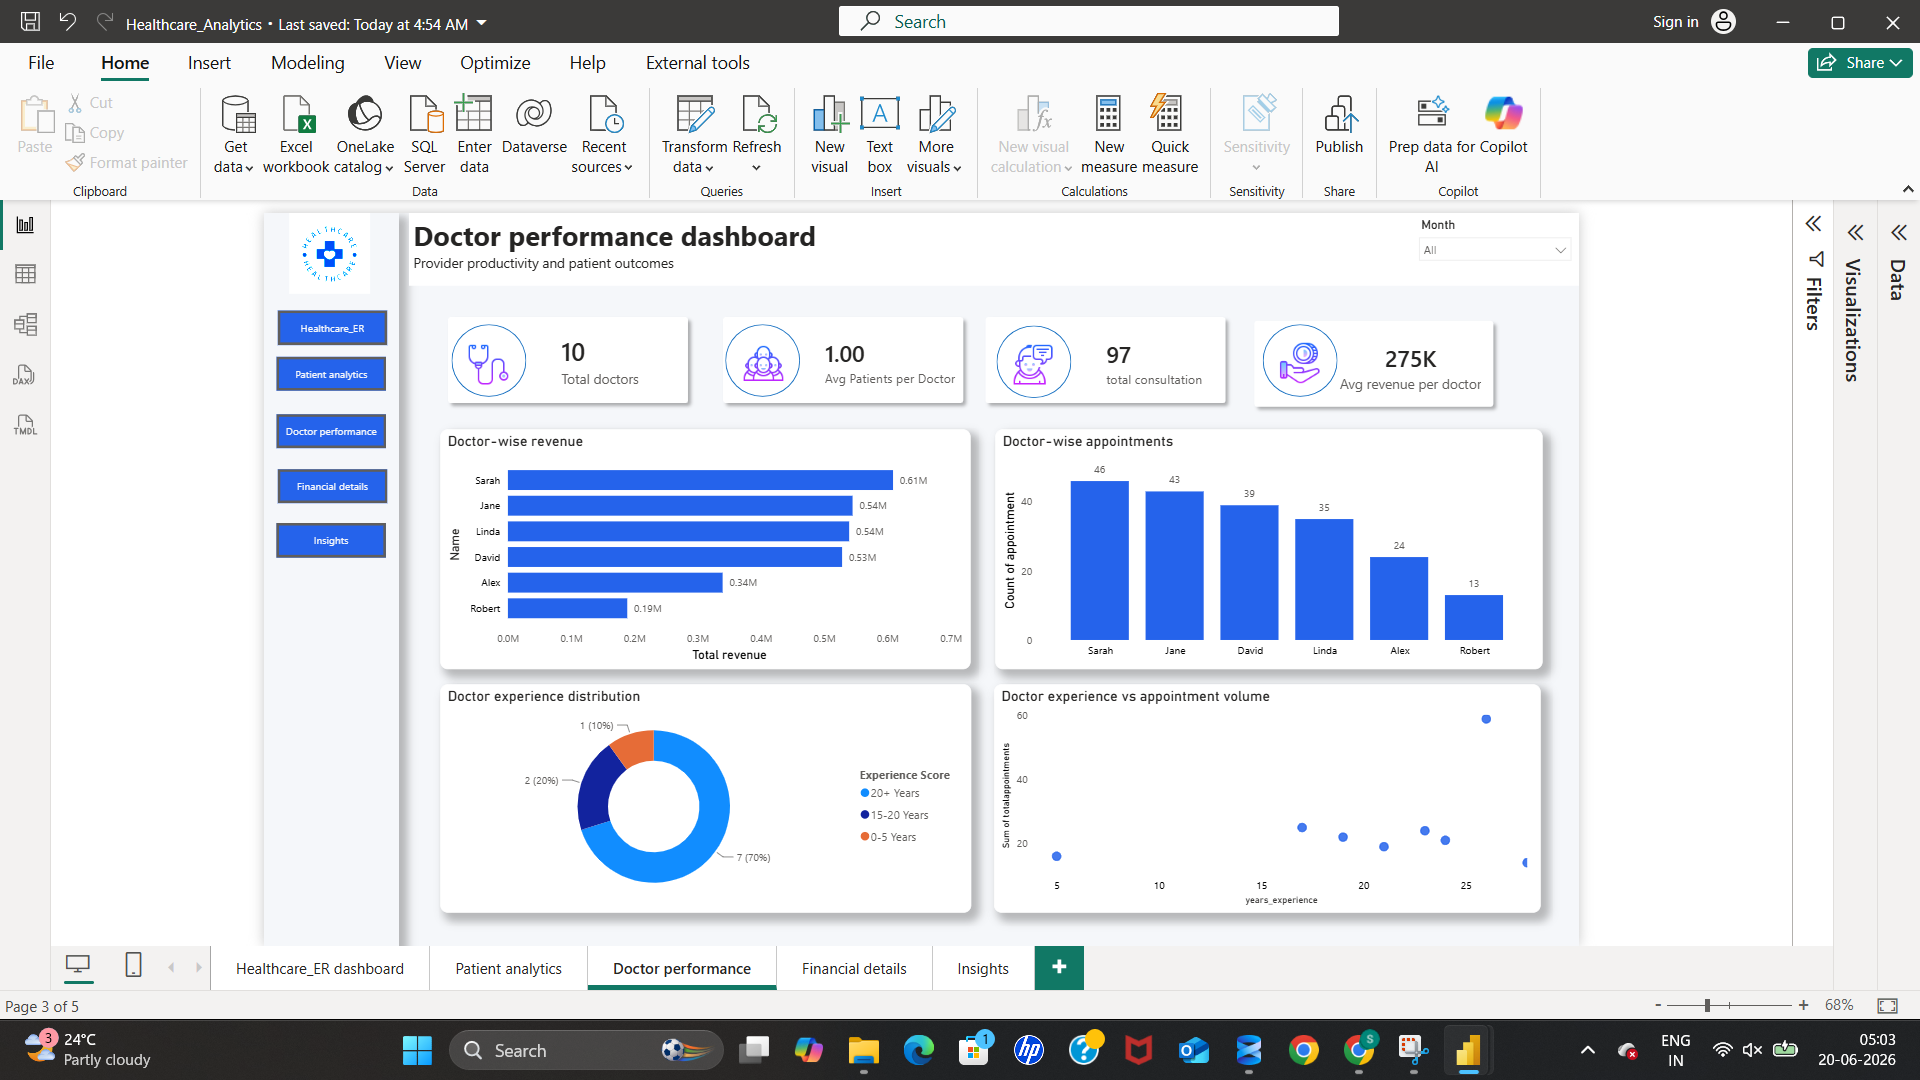

Layout of this report page (visuals, bound fields, positions):
{"tool":"powerbi","page":{"name":"Doctor performance","canvas":[1548,863],"ordinal":2},"visuals":[{"type":"shape","title":"Healthcare analytics","box":[0,0,159.3,863],"z":0},{"type":"image","box":[8.4,0,136.3,95.3],"z":1000},{"type":"actionButton","box":[14.5,168.9,129.1,39.8],"z":2000},{"type":"actionButton","box":[14.5,236.5,129.1,39.8],"z":3000},{"type":"actionButton","box":[15.7,301.6,129.1,39.8],"z":4000},{"type":"textbox","box":[170.2,0,1378.1,85.8],"z":5000},{"type":"slicer","fields":{"Values":["monthly_rev.month_name"]},"box":[1348.6,0,199.7,63.3],"z":6000},{"type":"shape","box":[207.5,113.4,300.4,119.4],"z":7000},{"type":"shape","box":[531,113.8,300.7,119.2],"z":8000},{"type":"shape","box":[839.7,113.4,300.4,119.4],"z":9000},{"type":"shape","box":[1155.4,117.8,299.3,119.2],"z":10000},{"type":"shape","box":[220.8,131.4,88,85.3],"z":11000},{"type":"shape","box":[543.1,131.4,88,85.3],"z":12000},{"type":"shape","box":[861.4,132.7,88,85.3],"z":13000},{"type":"shape","box":[1174.3,131.4,88,85.3],"z":14000},{"type":"image","box":[1190.1,144.6,57.8,65.1],"z":15000},{"type":"image","box":[558.2,144.6,57.8,65.1],"z":16000},{"type":"cardVisual","fields":{"Data":["billing.total revenue"]},"box":[319.7,127.3,174.7,92.1],"z":17000},{"type":"cardVisual","fields":{"Data":["CountNonNull(doctors.doctor_id)"]},"box":[321,128.7,174.7,92.1],"z":18000},{"type":"cardVisual","fields":{"Data":["Avg(rev_by_doc.revenue)"]},"box":[1229.1,133.6,239.1,95.6],"z":19000},{"type":"cardVisual","fields":{"Data":["doc_appointments.total consultation"]},"box":[961.7,130,178.8,94.8],"z":20000},{"type":"cardVisual","fields":{"Data":["doc_appointments.Avg Patients per Doctor"]},"box":[631.2,123.3,253.3,104.3],"z":21000},{"type":"clusteredBarChart","title":"Doctor-wise revenue","fields":{"Category":["doctors.first_name"],"Y":["Sum(rev_by_doc.revenue)"]},"box":[207.4,253.9,624,282.1],"z":22000},{"type":"clusteredColumnChart","title":"Doctor-wise appointments","fields":{"Y":["CountNonNull(appointments.appointment_id)"],"Category":["doctors.first_name"]},"box":[859.6,253.9,643.9,282.1],"z":23000},{"type":"donutChart","title":"Doctor experience distribution","fields":{"Category":["doctors.Performance Score"],"Y":["CountNonNull(doctors.doctor_id)"]},"box":[206.8,553.8,624.7,269],"z":24000},{"type":"scatterChart","title":"Doctor experience vs appointment volume","fields":{"Y":["Sum(doc_appointments.totalappointments)"],"X":["doctors.years_experience"]},"box":[859,553.8,643.5,269],"z":25000},{"type":"image","box":[876.3,146.1,57.8,65.1],"z":26000},{"type":"image","box":[235.7,146.1,57.8,65.1],"z":27000},{"type":"actionButton","title":"Executive dashboard","box":[15.9,114.2,128.7,40.5],"z":28000},{"type":"actionButton","box":[14.5,364.4,128.7,40.5],"z":29000}]}

Visuals, with their boxes on the page's 1548x863 design canvas (x1, y1, x2, y2). These are canvas units, not pixel positions in the 1920x1080 screenshot, which may show the page scaled, cropped or inside an application window:
"Healthcare analytics" shape: select_region(0, 0, 159, 863)
image: select_region(8, 0, 145, 95)
actionButton: select_region(14, 169, 144, 209)
actionButton: select_region(14, 236, 144, 276)
actionButton: select_region(16, 302, 145, 341)
textbox: select_region(170, 0, 1548, 86)
slicer - monthly_rev.month_name: select_region(1349, 0, 1548, 63)
shape: select_region(208, 113, 508, 233)
shape: select_region(531, 114, 832, 233)
shape: select_region(840, 113, 1140, 233)
shape: select_region(1155, 118, 1455, 237)
shape: select_region(221, 131, 309, 217)
shape: select_region(543, 131, 631, 217)
shape: select_region(861, 133, 949, 218)
shape: select_region(1174, 131, 1262, 217)
image: select_region(1190, 145, 1248, 210)
image: select_region(558, 145, 616, 210)
cardVisual - billing.total revenue: select_region(320, 127, 494, 219)
cardVisual - CountNonNull(doctors.doctor_id): select_region(321, 129, 496, 221)
cardVisual - Avg(rev_by_doc.revenue): select_region(1229, 134, 1468, 229)
cardVisual - doc_appointments.total consultation: select_region(962, 130, 1140, 225)
cardVisual - doc_appointments.Avg Patients per Doctor: select_region(631, 123, 884, 228)
"Doctor-wise revenue" clusteredBarChart: select_region(207, 254, 831, 536)
"Doctor-wise appointments" clusteredColumnChart: select_region(860, 254, 1504, 536)
"Doctor experience distribution" donutChart: select_region(207, 554, 832, 823)
"Doctor experience vs appointment volume" scatterChart: select_region(859, 554, 1502, 823)
image: select_region(876, 146, 934, 211)
image: select_region(236, 146, 294, 211)
"Executive dashboard" actionButton: select_region(16, 114, 145, 155)
actionButton: select_region(14, 364, 143, 405)
